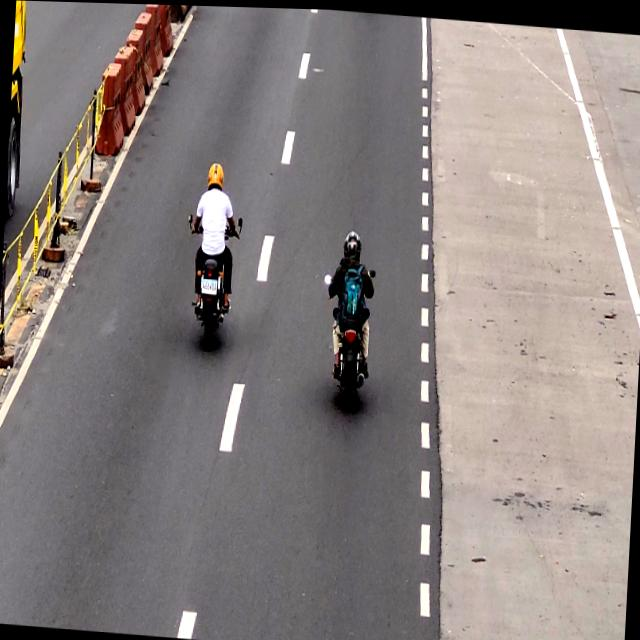License-Plate: (198, 275, 220, 297)
Motorcycle: (184, 156, 237, 351), (325, 228, 375, 409)
